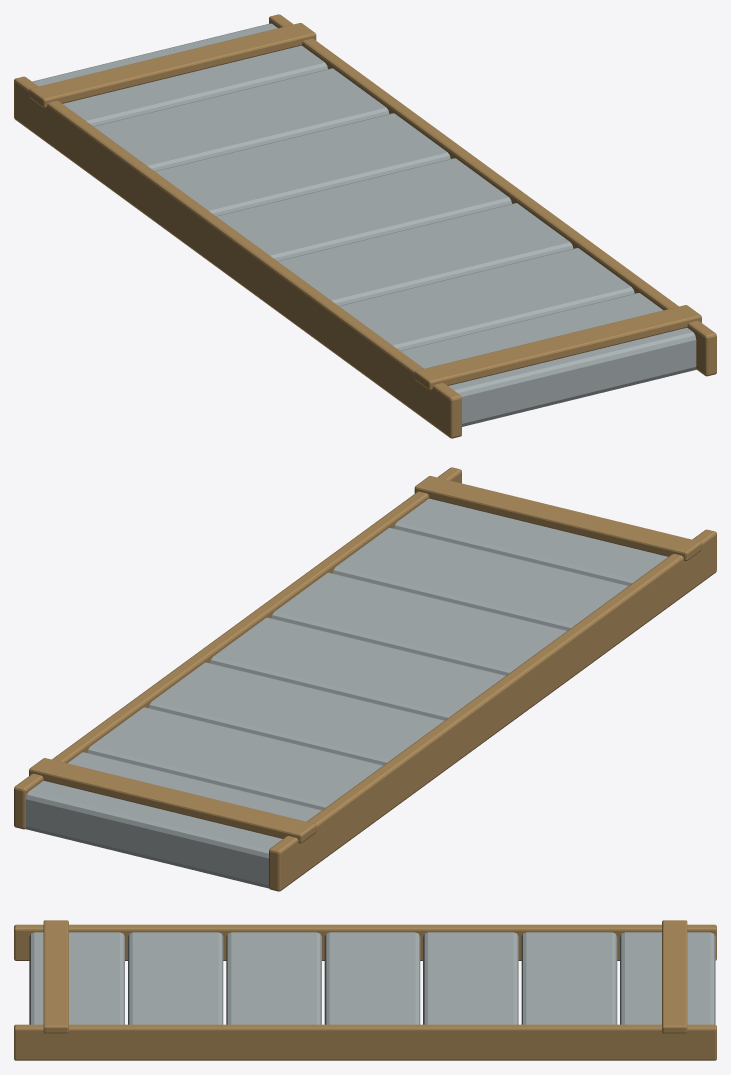
Rendered from return-bridge-detail-v02.glb.
3 views of the same model, one above another, from view 1: azimuth 30°, elevation 25°; view 2: azimuth 150°, elevation 25°; view 3: azimuth 270°, elevation 25° (orthographic). The views are drawn at different scales.
Visible parts, largest first — view 1: Interior limestone 0, Interior aged bronze 1; view 2: Interior limestone 0, Interior aged bronze 1; view 3: Interior limestone 0, Interior aged bronze 1.
Part boxes in pixels (x1,y1,x2,y2): Interior limestone 0: (32, 23, 696, 426); Interior aged bronze 1: (14, 14, 716, 438); Interior limestone 0: (25, 498, 667, 888); Interior aged bronze 1: (14, 467, 716, 891); Interior limestone 0: (29, 932, 715, 1024); Interior aged bronze 1: (14, 920, 716, 1060).
Bounding box in the file's own units: 1.8 × 0.295 × 5.
